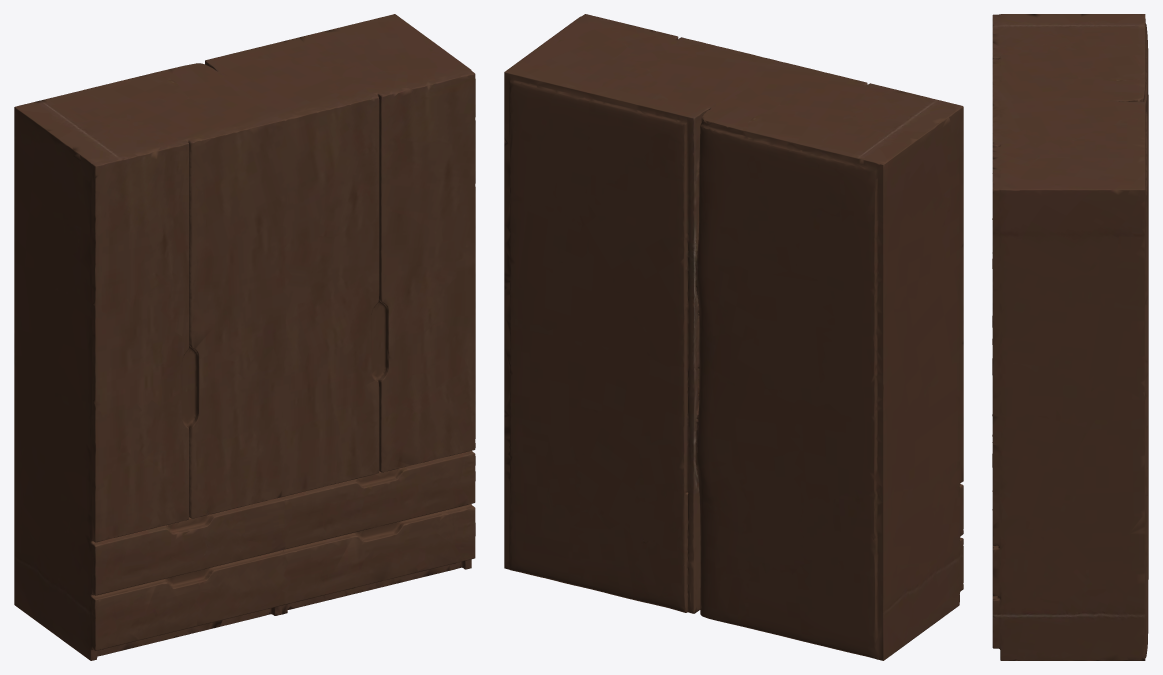
File: drobe-3.glb
The picture shows the model from 3 angles, left to right: view 1: azimuth 30°, elevation 25°; view 2: azimuth 150°, elevation 25°; view 3: azimuth 270°, elevation 25°; orthographic projection. The views are drawn at different scales.
Visible parts, largest first — view 1: Meshy_AI_Walnut_Wardrobe_Chest_20261119_texture; view 2: Meshy_AI_Walnut_Wardrobe_Chest_20261119_texture; view 3: Meshy_AI_Walnut_Wardrobe_Chest_20261119_texture.
Part boxes in pixels (left/top/right/bottom): Meshy_AI_Walnut_Wardrobe_Chest_20261119_texture: left=14, top=14, right=475, bottom=660; Meshy_AI_Walnut_Wardrobe_Chest_20261119_texture: left=504, top=14, right=963, bottom=660; Meshy_AI_Walnut_Wardrobe_Chest_20261119_texture: left=992, top=14, right=1148, bottom=660.
Bounding box in the file's own units: 1.6 × 2 × 0.6.
Materials: 1 (1 with a texture image).
